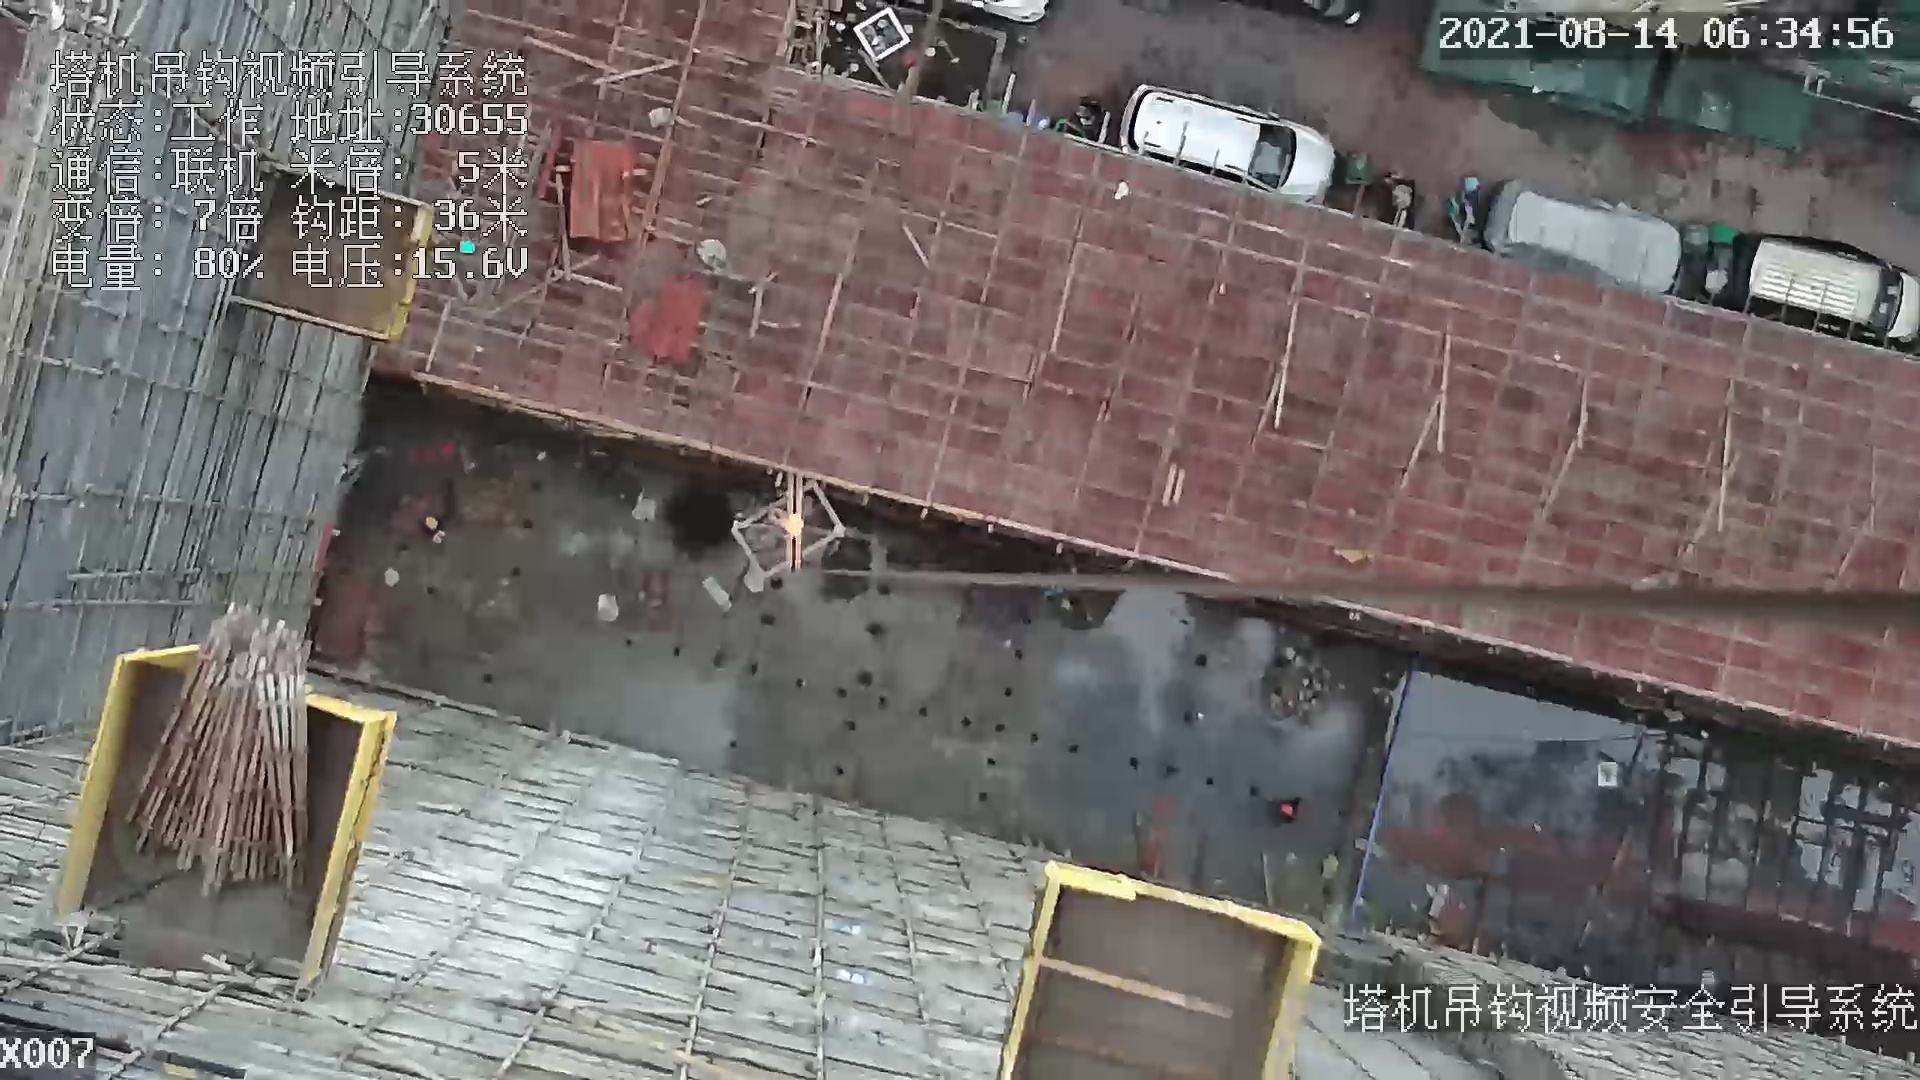hook: (767, 473, 808, 574)
hopper: (731, 491, 866, 589)
scaffold: (138, 612, 328, 909)
